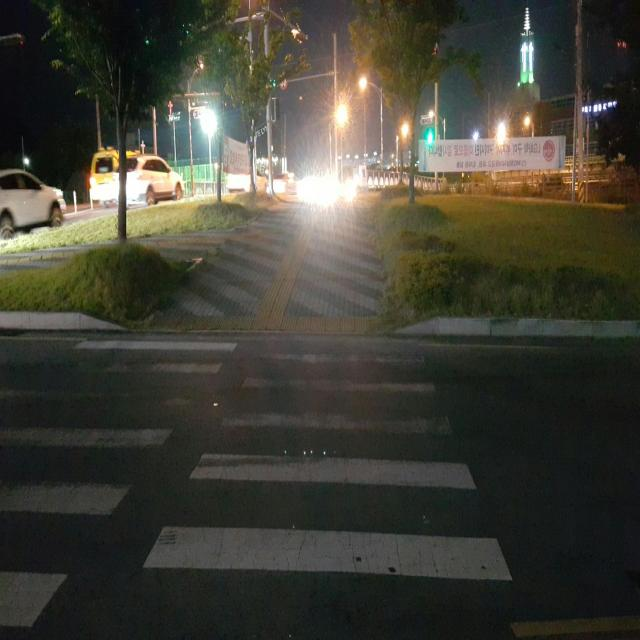횡단보도: (0, 332, 515, 640)
